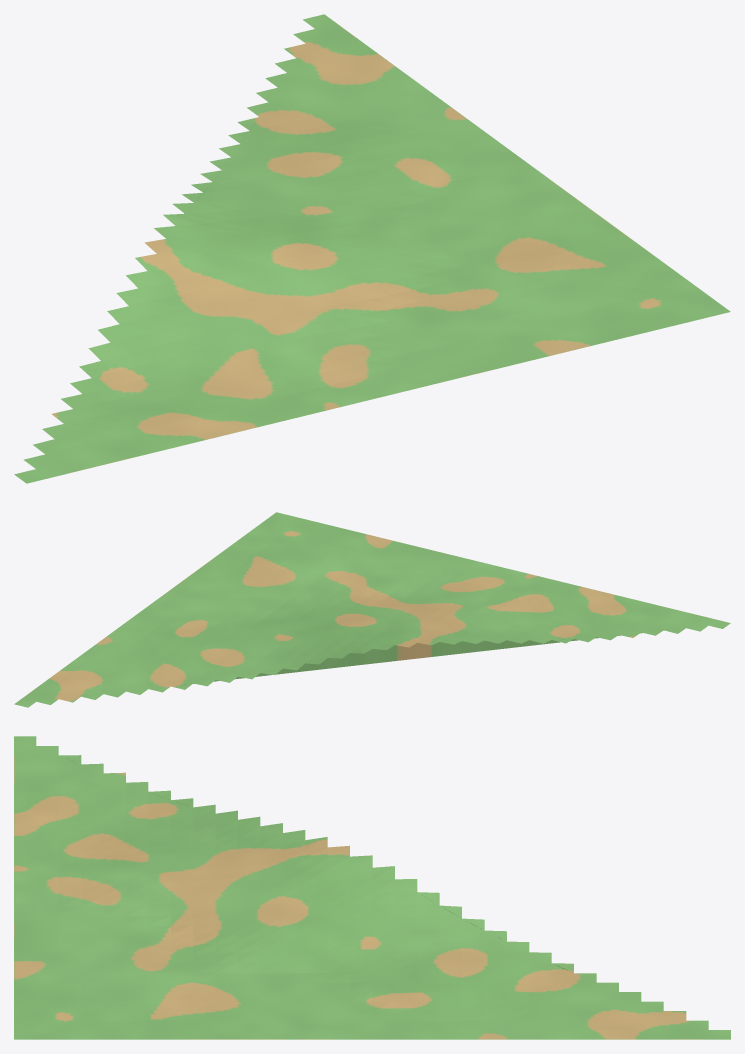
Rendered from Grass_Flat_03_NE.obj.
3 renders of one model, top to bottom at view 1: azimuth 30°, elevation 25°; view 2: azimuth 150°, elevation 25°; view 3: azimuth 270°, elevation 25°, orthographic. The views are drawn at different scales.
Bounding box in the file's own units: 10 × 0.3586 × 10.
Materials: 1 (1 with a texture image).
